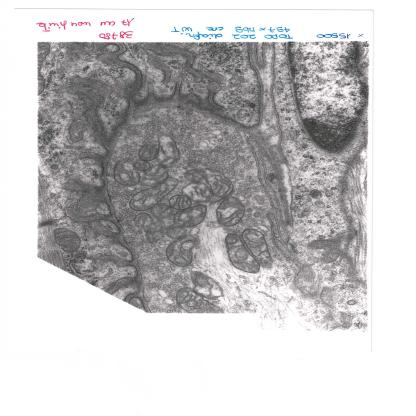mitochondria: (127, 178, 181, 210), (222, 233, 260, 273), (238, 229, 277, 267), (187, 270, 229, 300), (162, 236, 200, 268), (129, 212, 167, 242), (212, 197, 247, 226), (171, 204, 207, 230), (154, 136, 180, 169), (112, 158, 141, 187), (180, 182, 215, 204), (52, 227, 80, 253), (136, 165, 169, 187), (162, 225, 191, 241), (149, 203, 178, 218), (168, 194, 193, 210), (134, 144, 158, 160), (182, 169, 208, 183), (133, 160, 152, 170)
